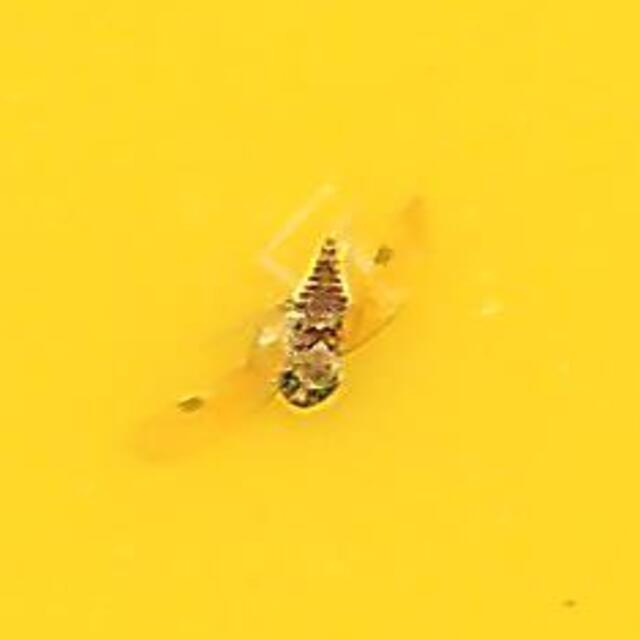Hemiptera: (272, 229, 368, 411)
